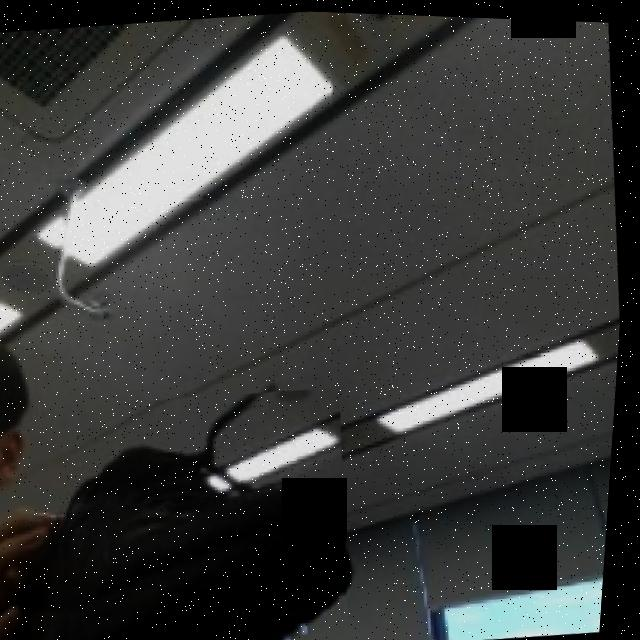shoe: (39, 376, 371, 640)
